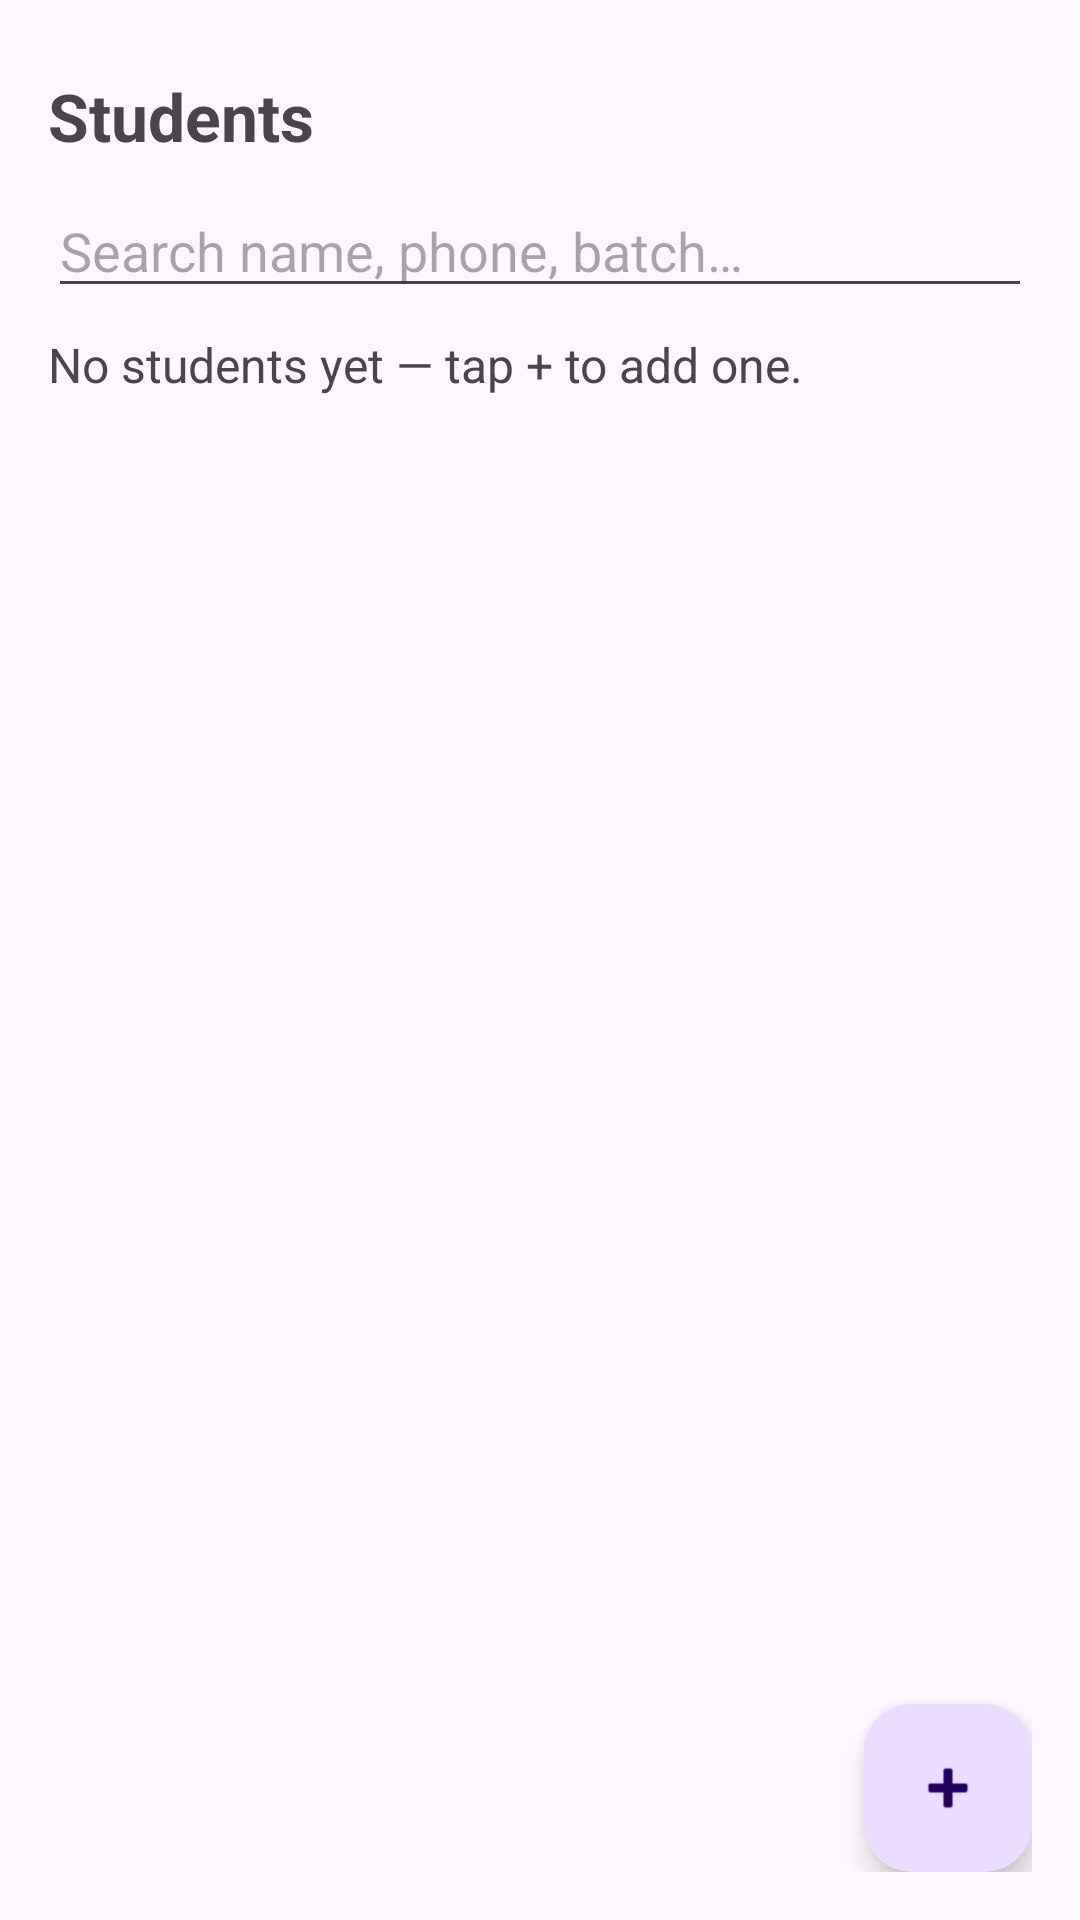

Icons on this 1080 x 1920 Android screen, each with its box as (x1, y1, x2, y2):
Add student: (864, 1704, 1032, 1872)
